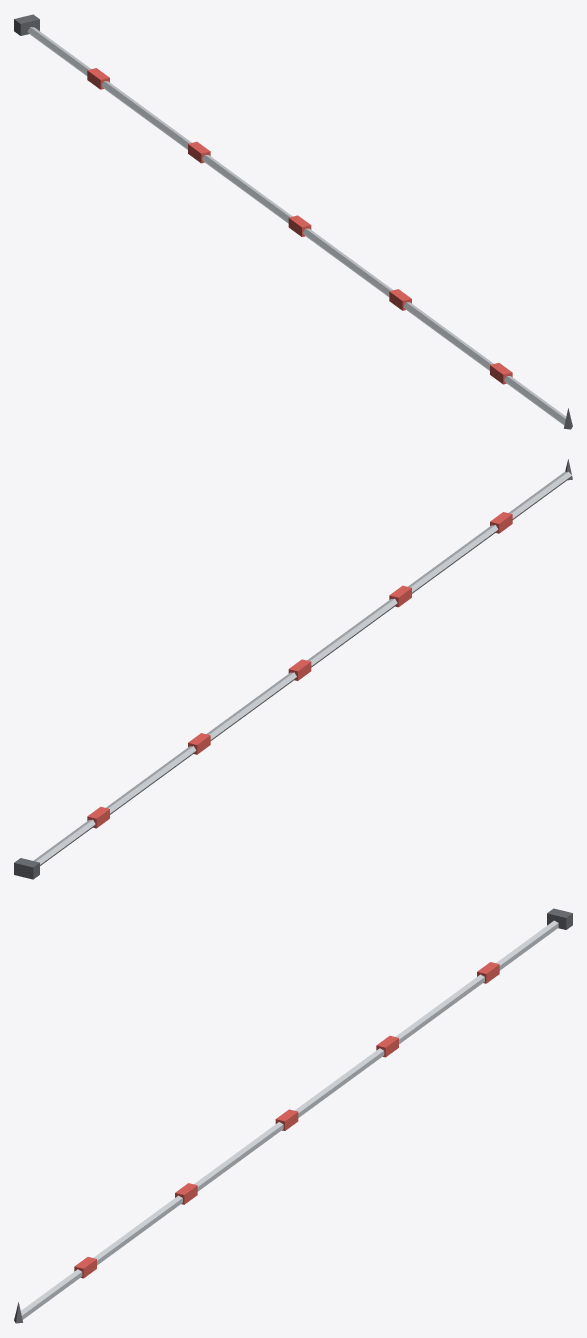
Rendered from ski-resort-and-snow-park-avalanche-probe-d3c22882__26025.glb.
3 views of the same model, one above another, from view 1: azimuth 30°, elevation 25°; view 2: azimuth 150°, elevation 25°; view 3: azimuth 330°, elevation 25° (orthographic).
Visible parts, largest first — view 1: avalanche-probe; view 2: avalanche-probe; view 3: avalanche-probe.
Part boxes in pixels (left/top/right/bottom): avalanche-probe: left=14, top=14, right=572, bottom=429; avalanche-probe: left=14, top=459, right=572, bottom=879; avalanche-probe: left=14, top=908, right=572, bottom=1323.
Size of the model in its own units: 0.0499 by 0.05 by 2.45.
